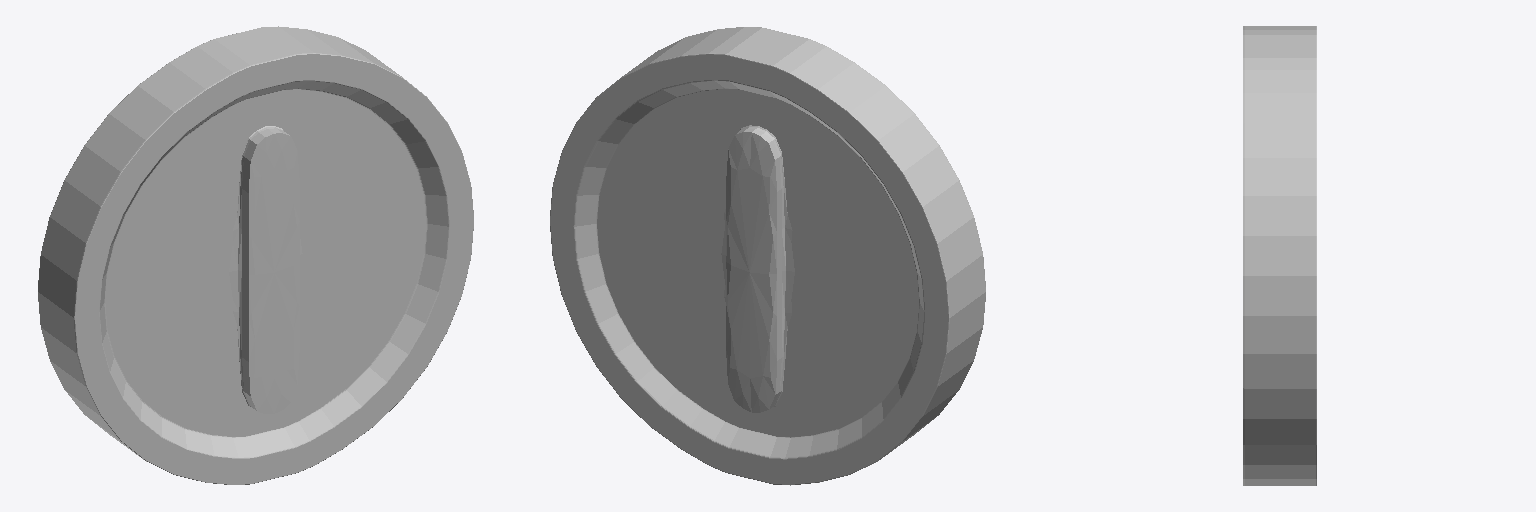
The model's file is coin.obj.
3 renders of one model, left to right at view 1: azimuth 30°, elevation 25°; view 2: azimuth 150°, elevation 25°; view 3: azimuth 270°, elevation 25°, orthographic.
Parts seen in each view (by area): view 1: pCylinder1; view 2: pCylinder1; view 3: pCylinder1.
Part boxes in pixels (left/top/right/bottom): pCylinder1: left=38, top=26, right=473, bottom=484; pCylinder1: left=550, top=27, right=985, bottom=485; pCylinder1: left=1243, top=26, right=1316, bottom=485.
Bounding box in the file's own units: 9.41 × 9.41 × 1.51.